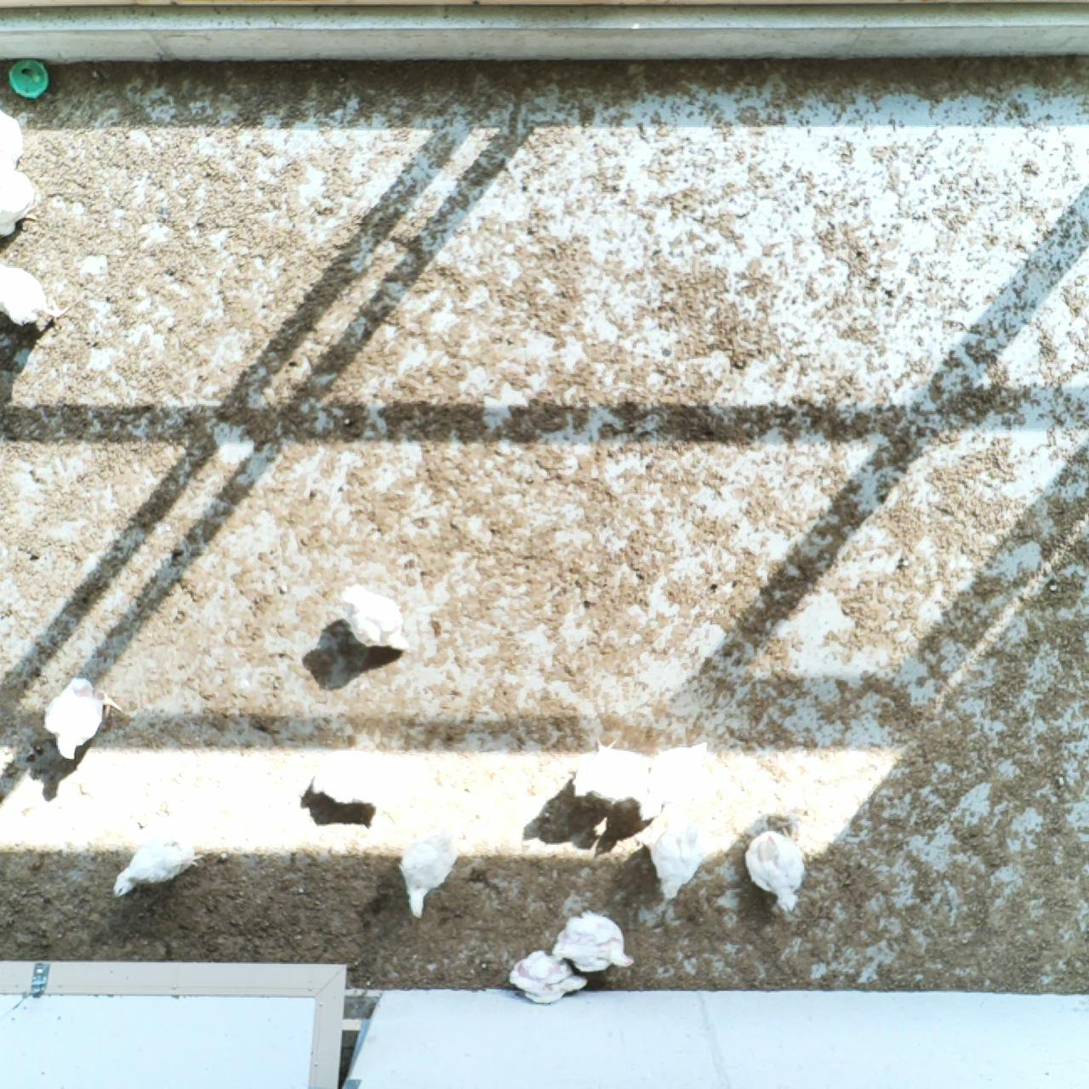chicken: (111, 817, 204, 904), (637, 801, 715, 902), (41, 673, 124, 762), (395, 814, 462, 924), (636, 740, 713, 823), (553, 905, 640, 978), (742, 822, 809, 916), (335, 580, 412, 657), (311, 744, 398, 811), (571, 738, 653, 808), (503, 946, 591, 1007), (0, 261, 53, 332), (0, 159, 38, 242)
